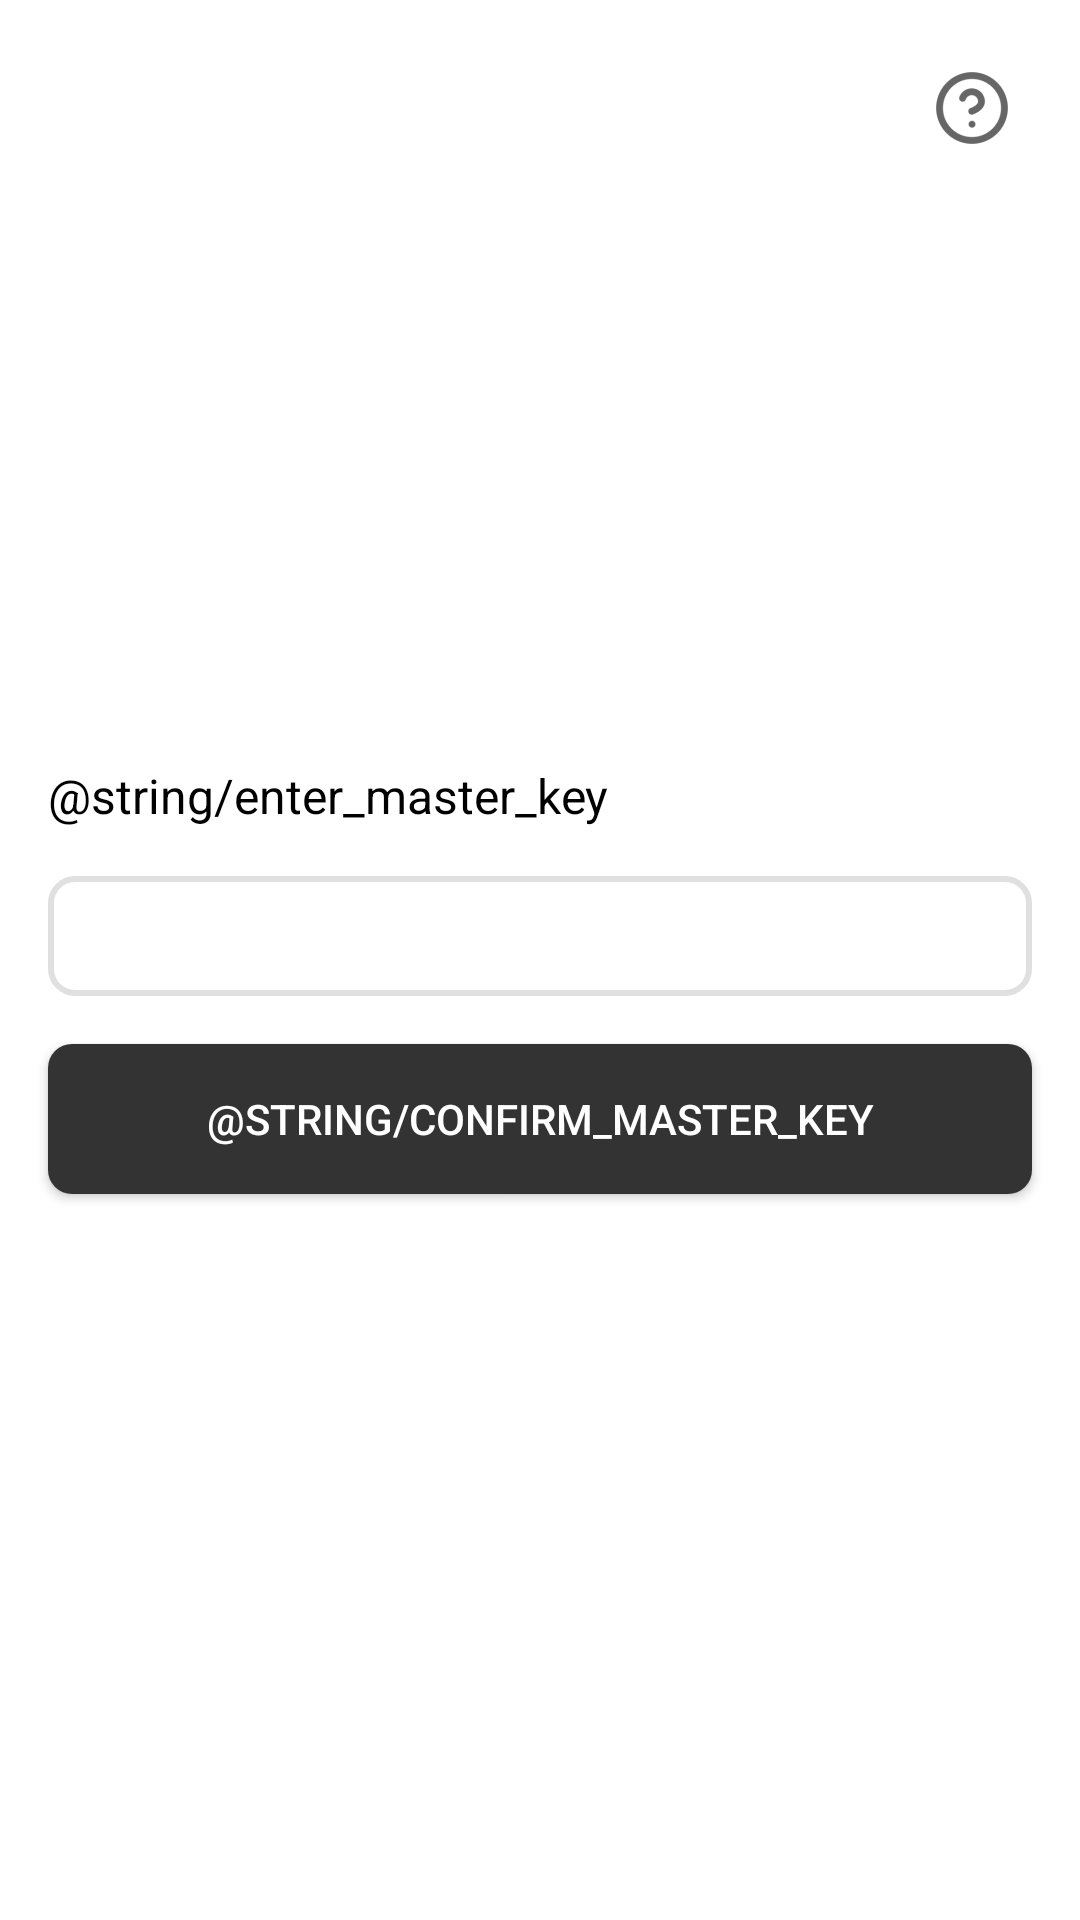

Where to tap for icons on this 1080x1920 app screen, as (x,y):
help: (972,108)
